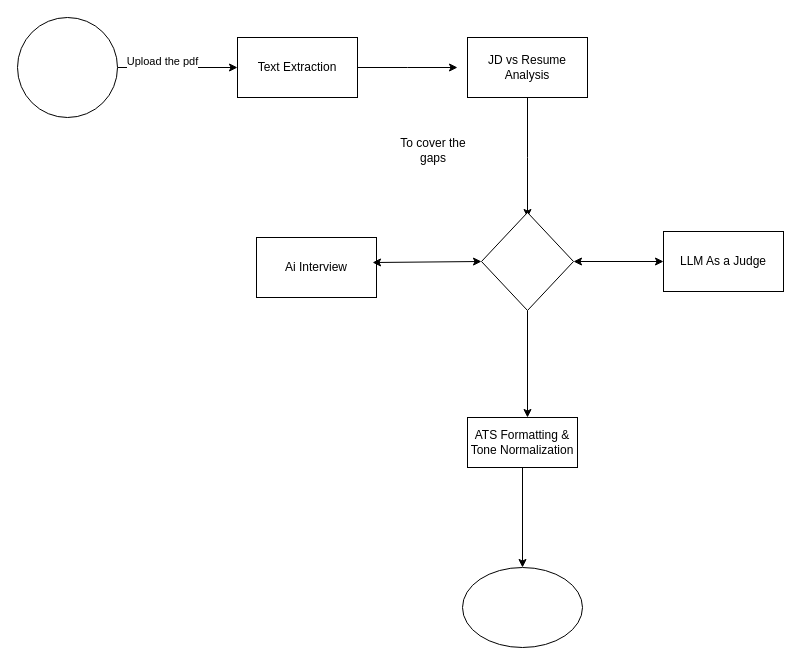
This 801x665 diagram has some shape labels left out. The centre of each missing label's shape, as x and y in pixels:
"Generate the final ATS Friendly resume" belongs at (x=522, y=607).
"Score & Gap Evaluation" belongs at (x=527, y=261).
"Start" belongs at (x=67, y=67).
